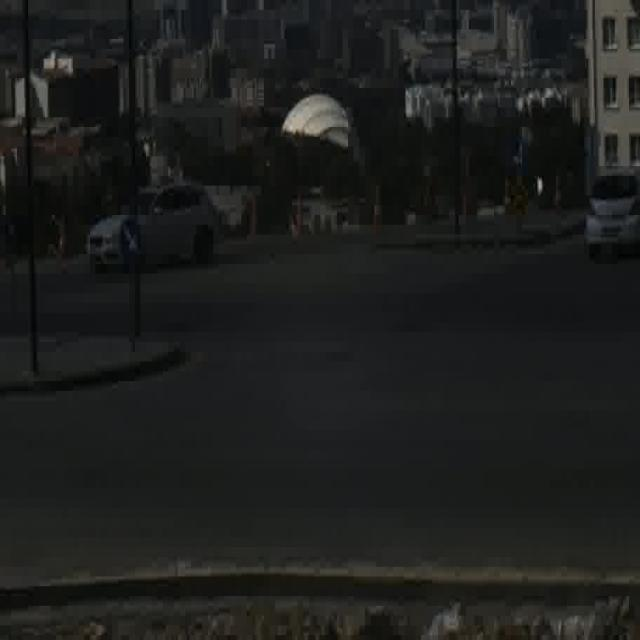Car: (85, 180, 213, 273), (584, 164, 640, 265)
